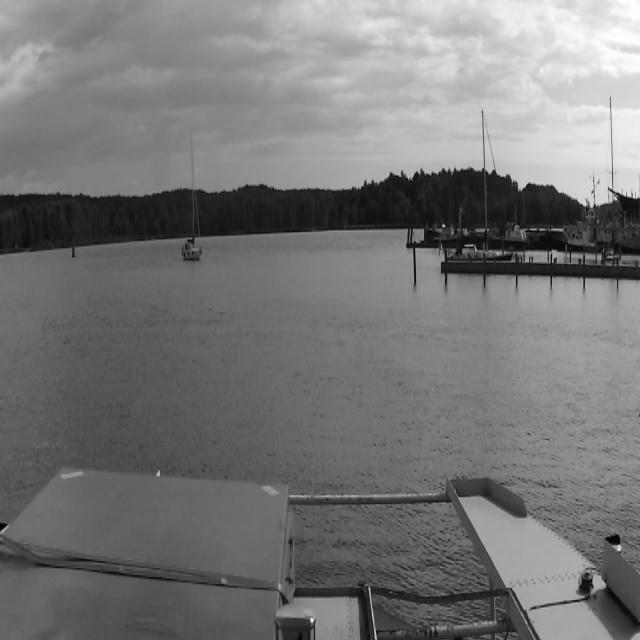ship: (448, 108, 512, 258), (181, 129, 203, 259), (557, 230, 603, 253)
